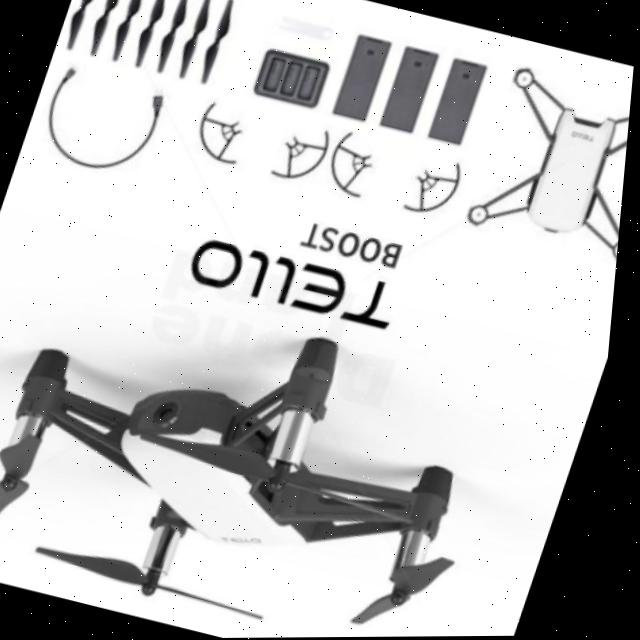drones: (0, 239, 577, 640)
